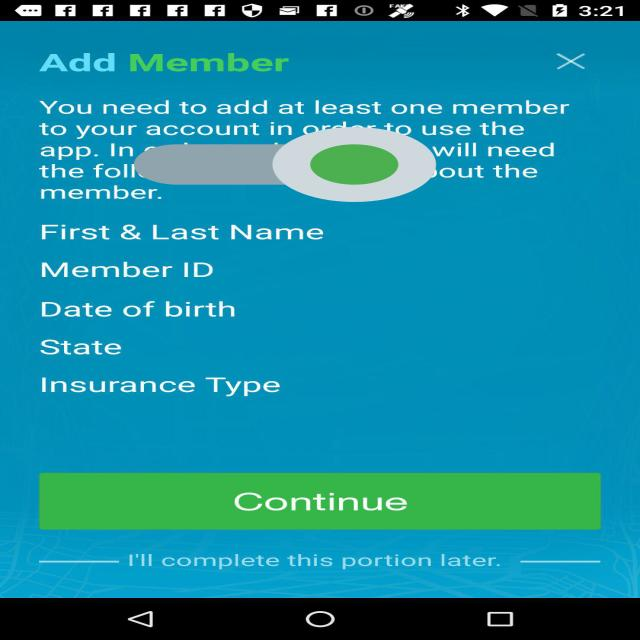social proof: (134, 95, 436, 234)
